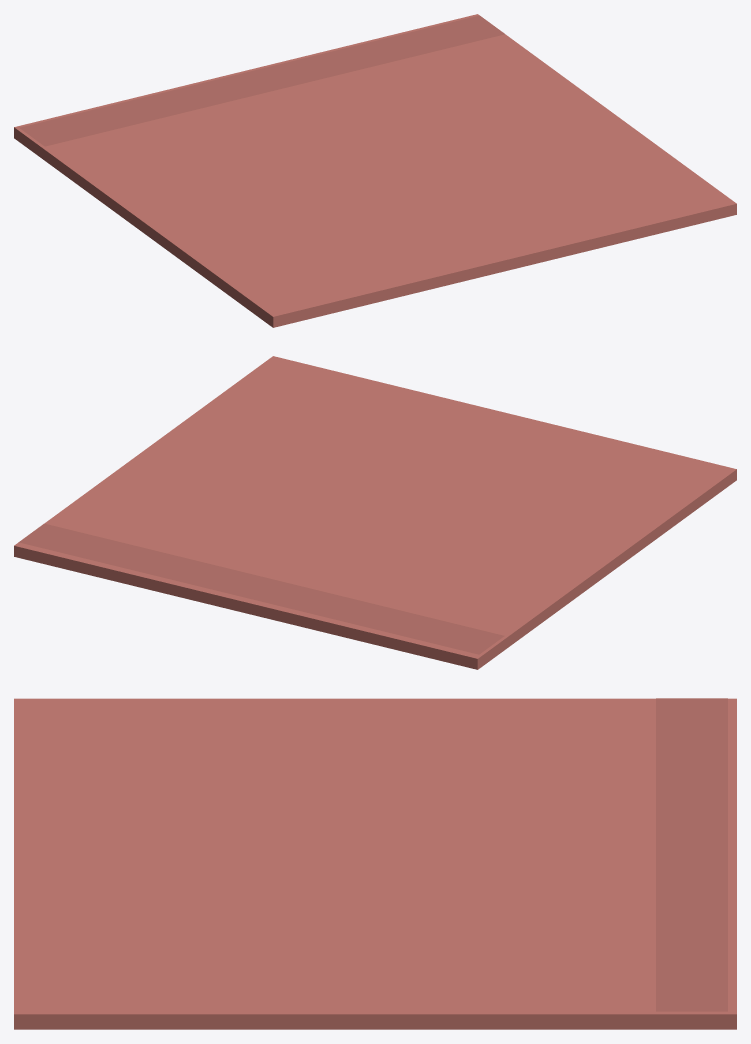
File: lab_postit_tech.glb
The picture shows the model from 3 angles, top to bottom: view 1: azimuth 30°, elevation 25°; view 2: azimuth 150°, elevation 25°; view 3: azimuth 270°, elevation 25°; orthographic projection. The views are drawn at different scales.
Parts seen in each view (by area): view 1: block_colored sticky memo, block_adhesive band; view 2: block_colored sticky memo, block_adhesive band; view 3: block_colored sticky memo, block_adhesive band.
Boxes of the visible parts, x1=… form: block_colored sticky memo: x1=14, y1=14, x2=736, y2=327; block_adhesive band: x1=19, y1=15, x2=504, y2=146; block_colored sticky memo: x1=14, y1=356, x2=736, y2=669; block_adhesive band: x1=19, y1=523, x2=504, y2=654; block_colored sticky memo: x1=14, y1=698, x2=736, y2=1029; block_adhesive band: x1=656, y1=698, x2=727, y2=1011.
Size of the model in its own units: 0.076 by 0.00193 by 0.0736.
Materials: 1 (1 with a texture image).
